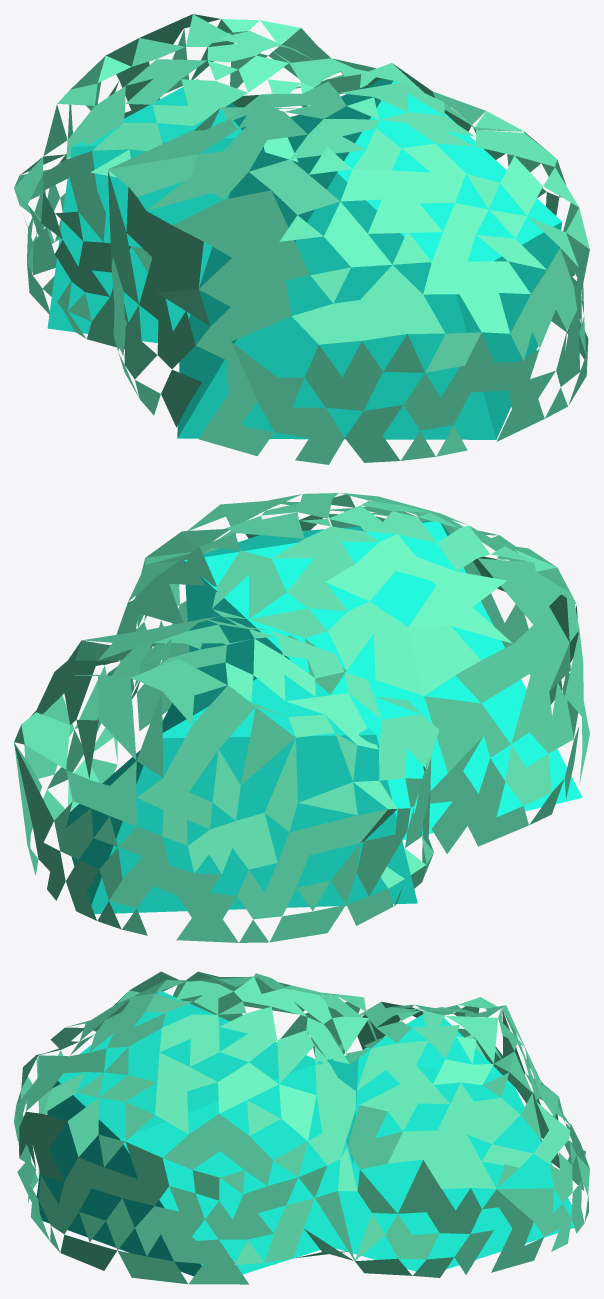
The model's file is WrightBuckwheat_LOD1.fbx.
3 views of the same model, one above another, from view 1: azimuth 30°, elevation 25°; view 2: azimuth 150°, elevation 25°; view 3: azimuth 270°, elevation 25° (orthographic). The views are drawn at different scales.
Visible parts, largest first — view 1: WrightBuckwheat_LOD1; view 2: WrightBuckwheat_LOD1; view 3: WrightBuckwheat_LOD1.
Boxes of the visible parts, bbox=[...] form: WrightBuckwheat_LOD1: bbox=[14, 14, 589, 464]; WrightBuckwheat_LOD1: bbox=[14, 493, 589, 942]; WrightBuckwheat_LOD1: bbox=[14, 971, 589, 1284].
Bounding box in the file's own units: 102 × 41.64 × 70.92.
